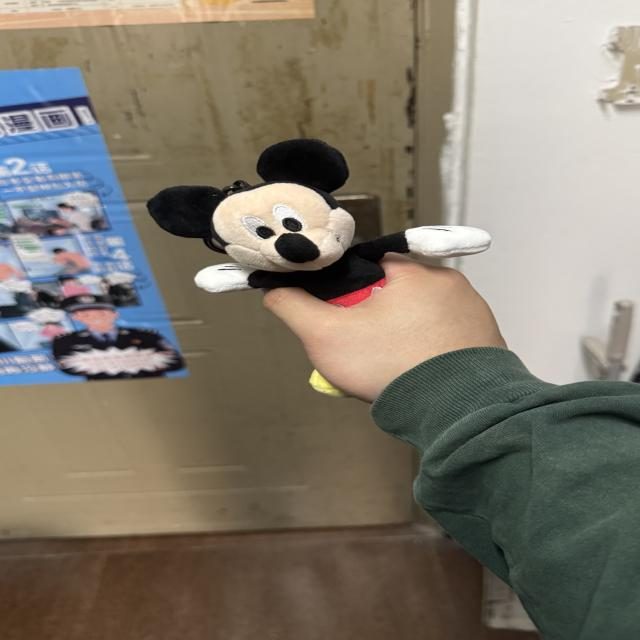mickey: (148, 139, 490, 306)
